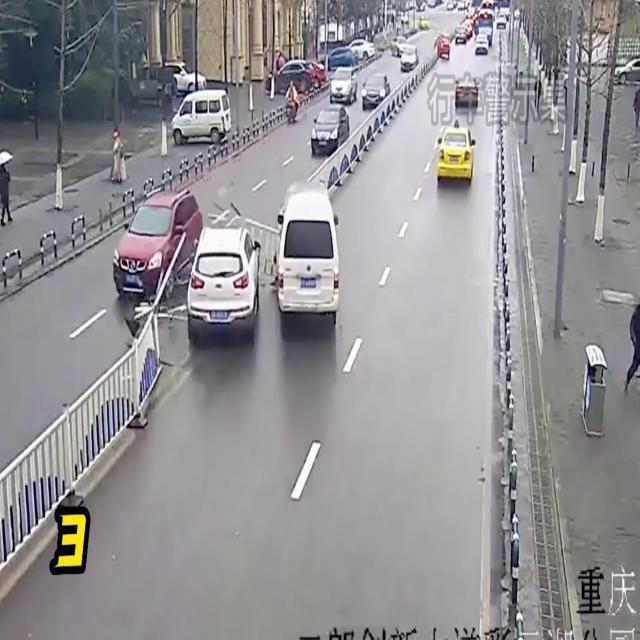accident: (190, 186, 342, 324), (276, 186, 340, 316), (187, 217, 261, 323)
non-accident: (454, 8, 496, 58), (323, 37, 377, 65)
